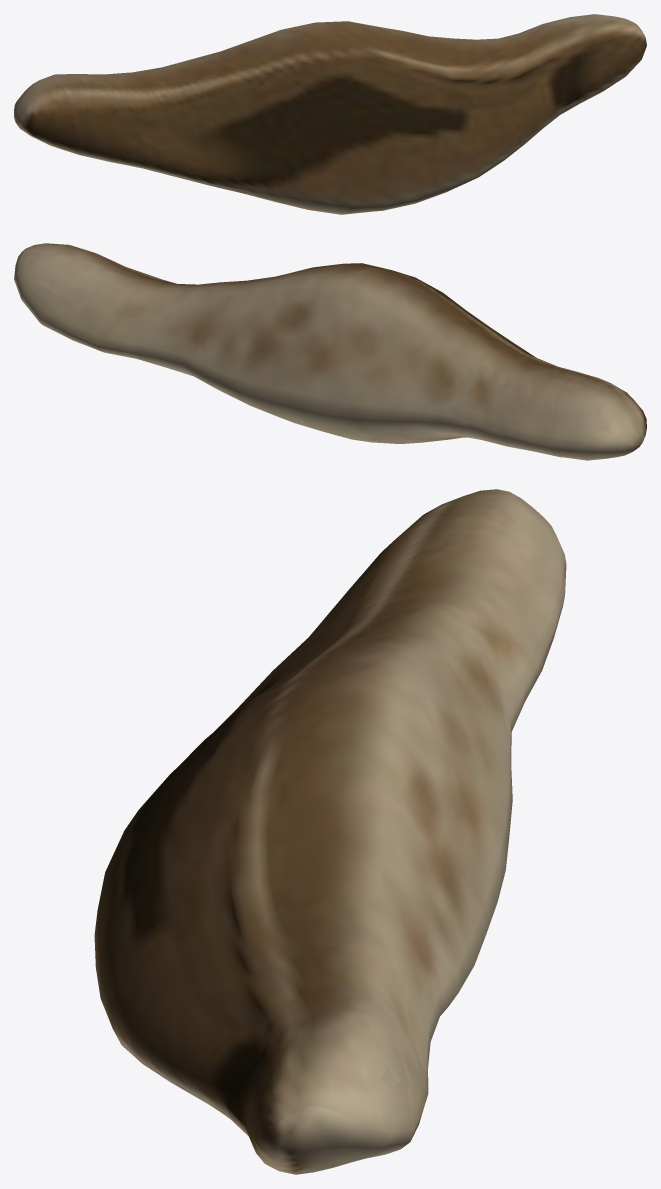
Rendered from Navicular.glb.
3 views of the same model, one above another, from view 1: azimuth 30°, elevation 25°; view 2: azimuth 150°, elevation 25°; view 3: azimuth 270°, elevation 25° (orthographic). The views are drawn at different scales.
Visible parts, largest first — view 1: R_Frt_Navicular; view 2: R_Frt_Navicular; view 3: R_Frt_Navicular.
Part boxes in pixels (<box>): R_Frt_Navicular: <box>14,14,646,214</box>; R_Frt_Navicular: <box>14,243,646,460</box>; R_Frt_Navicular: <box>94,489,566,1174</box>.
Bounding box in the file's own units: 0.0464 × 0.0118 × 0.0164.
1 material, 1 textured.
